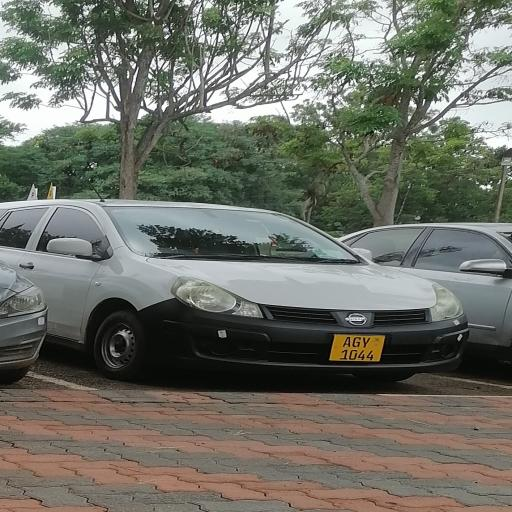number-plates: (330, 329, 382, 367)
